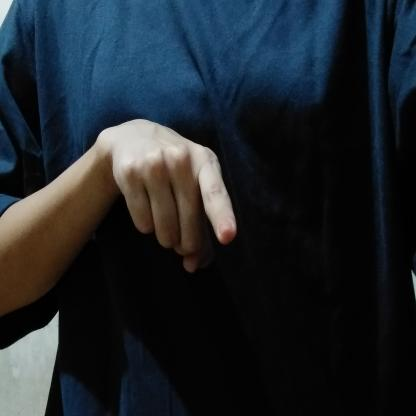you: (94, 110, 244, 281)
